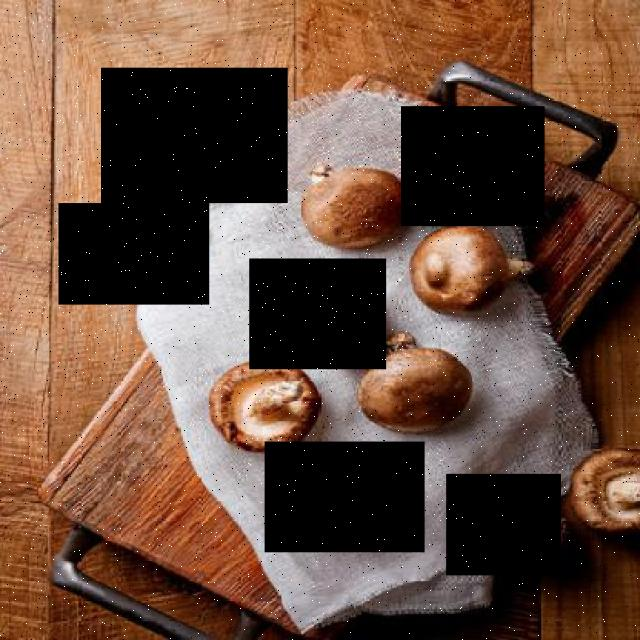Mushroom: (100, 68, 288, 204), (266, 442, 426, 553), (400, 107, 544, 227), (58, 203, 210, 304), (249, 258, 386, 369), (447, 474, 561, 575)
